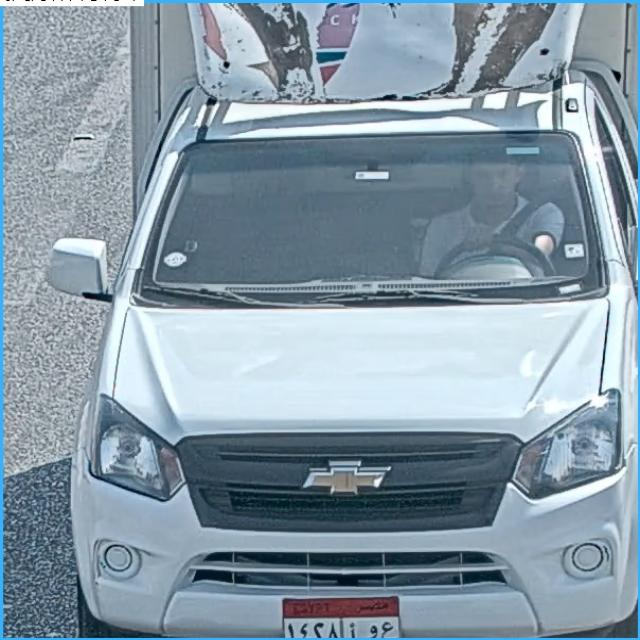windshield: (140, 134, 594, 294)
